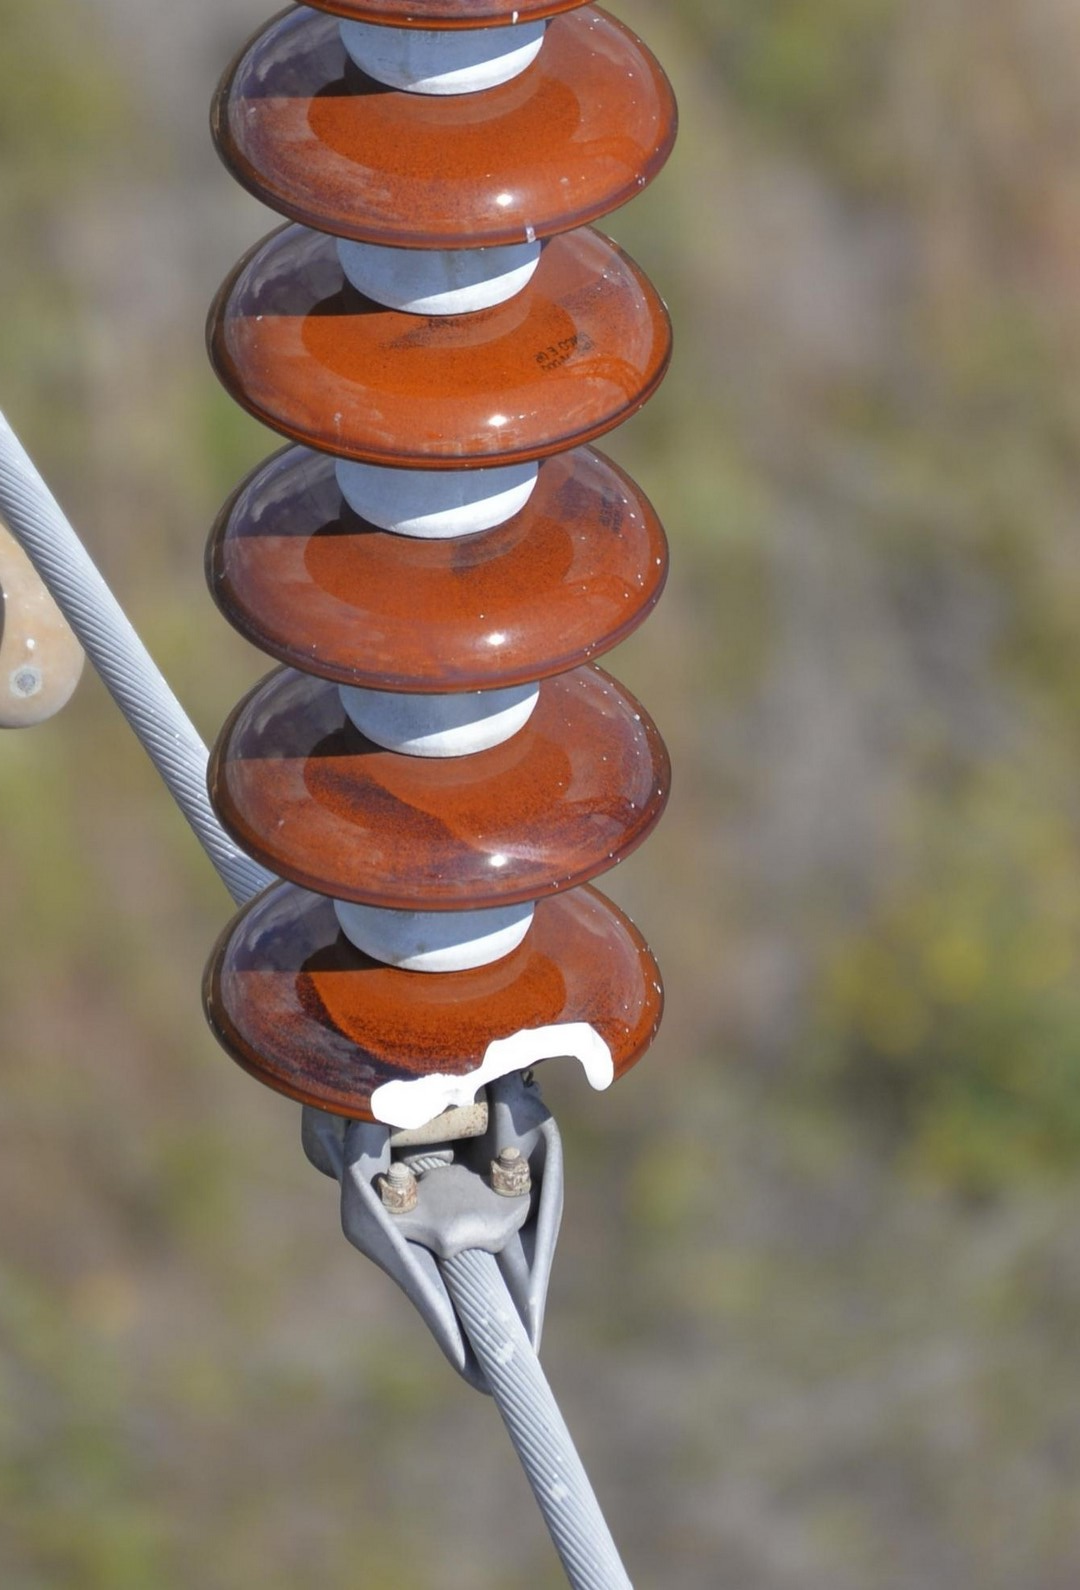insulator breakage: (184, 880, 683, 1142)
